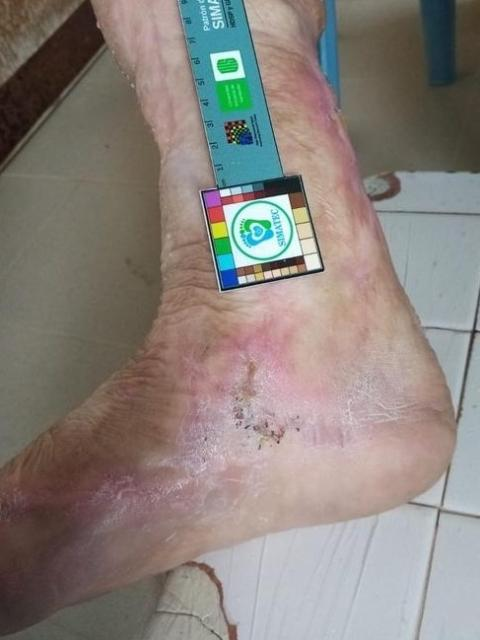wound: (227, 357, 284, 449)
